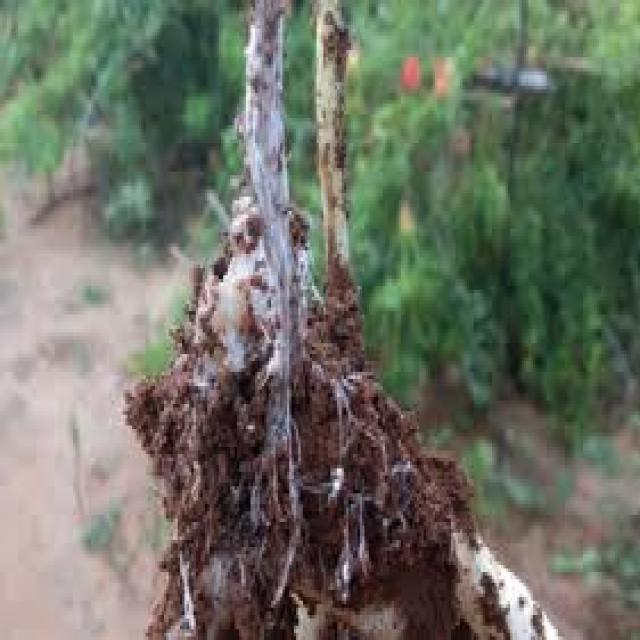root_rot: (140, 45, 454, 596)
